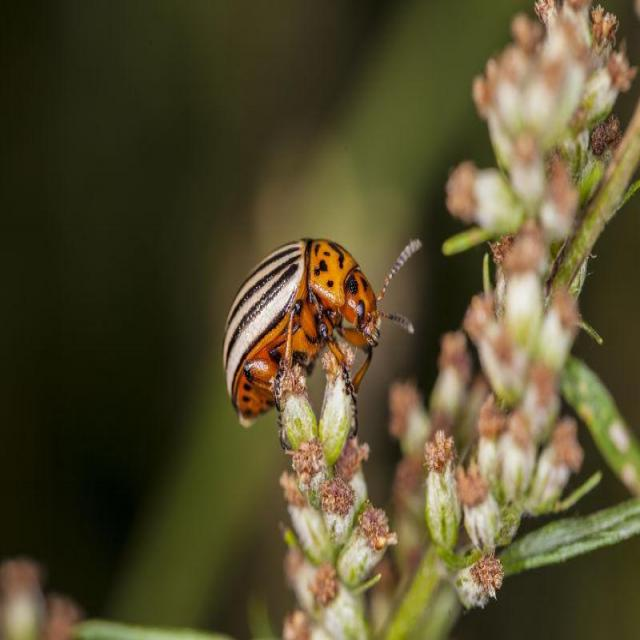ShuCaiHuaBanChong-Grown-: (196, 218, 392, 426)
